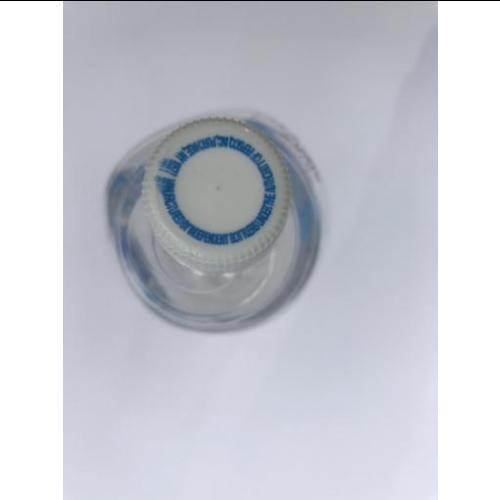plastic: (107, 109, 326, 334)
